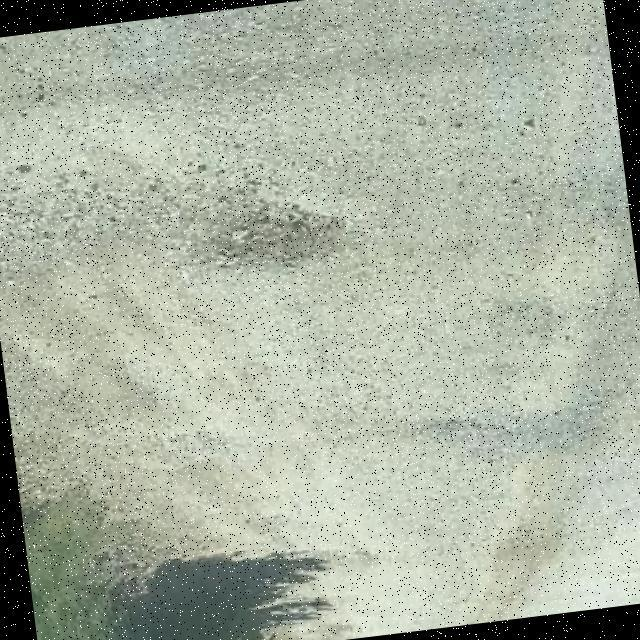Pothole: (0, 167, 149, 269), (206, 202, 343, 265)
